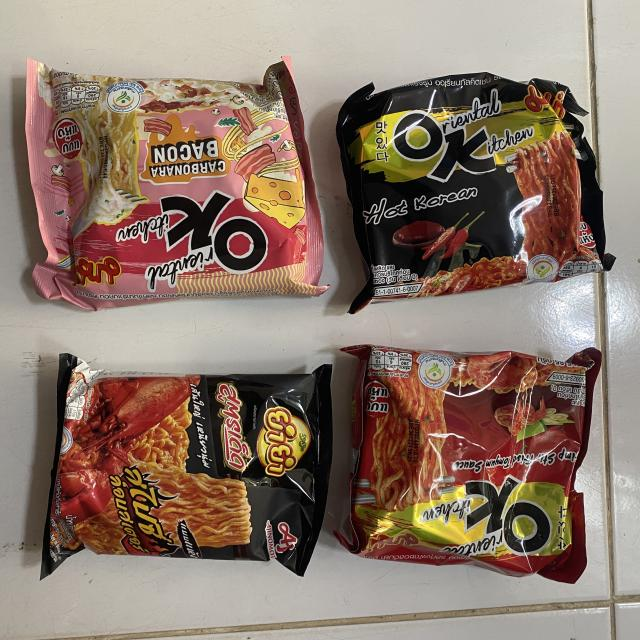plastik: (25, 56, 328, 310), (338, 73, 614, 313), (41, 354, 332, 578), (338, 345, 601, 582)
